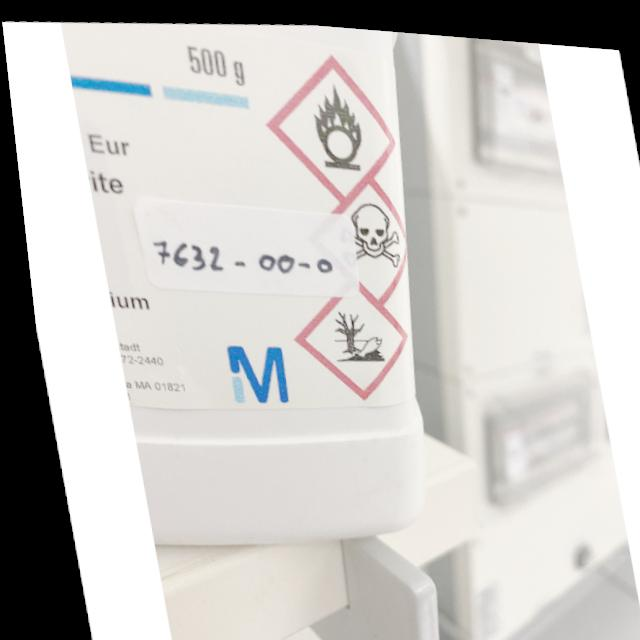acute toxicity: (290, 163, 410, 307)
hazardous to the environment: (276, 263, 412, 403)
oxidising: (250, 38, 404, 211)
